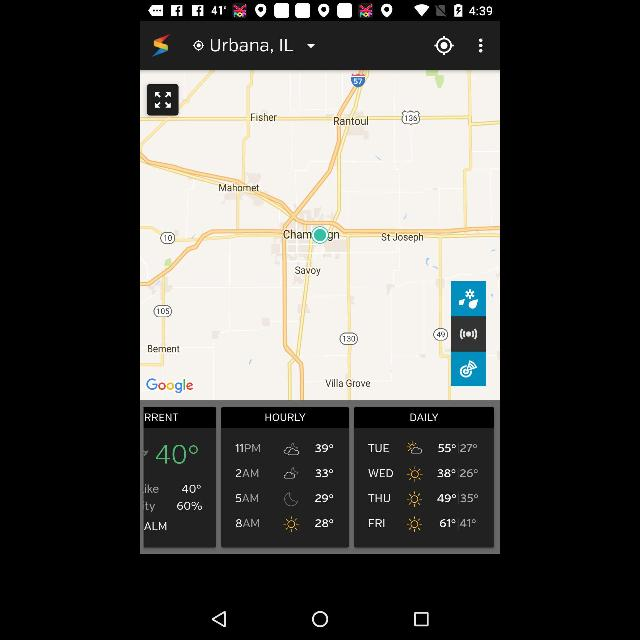icon: (151, 440, 201, 470), (432, 33, 456, 57), (150, 30, 172, 56), (280, 487, 302, 511), (278, 463, 302, 482), (279, 438, 301, 458), (404, 488, 426, 508), (402, 437, 423, 457), (404, 463, 424, 483), (152, 91, 172, 111), (406, 513, 424, 533), (310, 610, 328, 628), (284, 516, 300, 534), (412, 612, 428, 628), (191, 37, 205, 53), (212, 611, 226, 627), (476, 34, 484, 56), (306, 39, 318, 51)
map: (140, 70, 500, 400)
panel: (140, 602, 500, 638)
text: (208, 33, 296, 55), (436, 442, 480, 458), (434, 467, 480, 481), (436, 492, 480, 506), (438, 516, 478, 530), (264, 412, 308, 424), (173, 498, 205, 514), (363, 439, 392, 456), (143, 412, 181, 424), (233, 464, 261, 480), (407, 412, 443, 424), (232, 492, 262, 506), (141, 521, 175, 533), (366, 466, 394, 480), (365, 490, 393, 504), (234, 440, 262, 454), (233, 516, 260, 530), (366, 514, 388, 530), (313, 491, 335, 505), (181, 482, 203, 496), (143, 479, 161, 495), (315, 465, 335, 479), (313, 516, 333, 530), (314, 442, 334, 454), (142, 500, 160, 512)
toolbar: (140, 21, 500, 69)
uppertaskbar: (141, 2, 499, 20)
